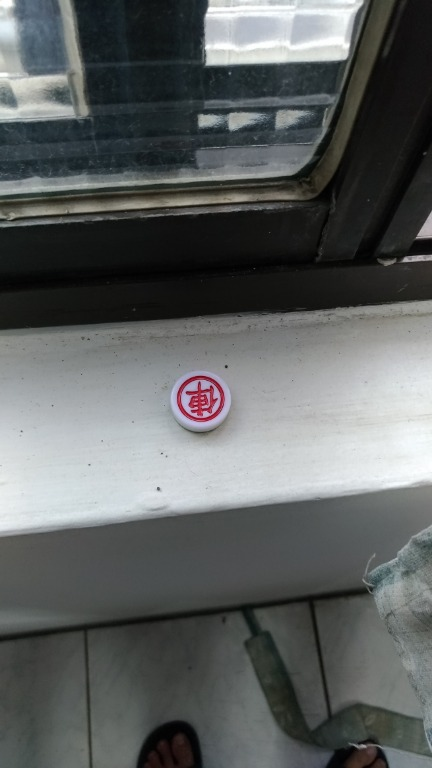r-rook: (166, 368, 248, 434)
